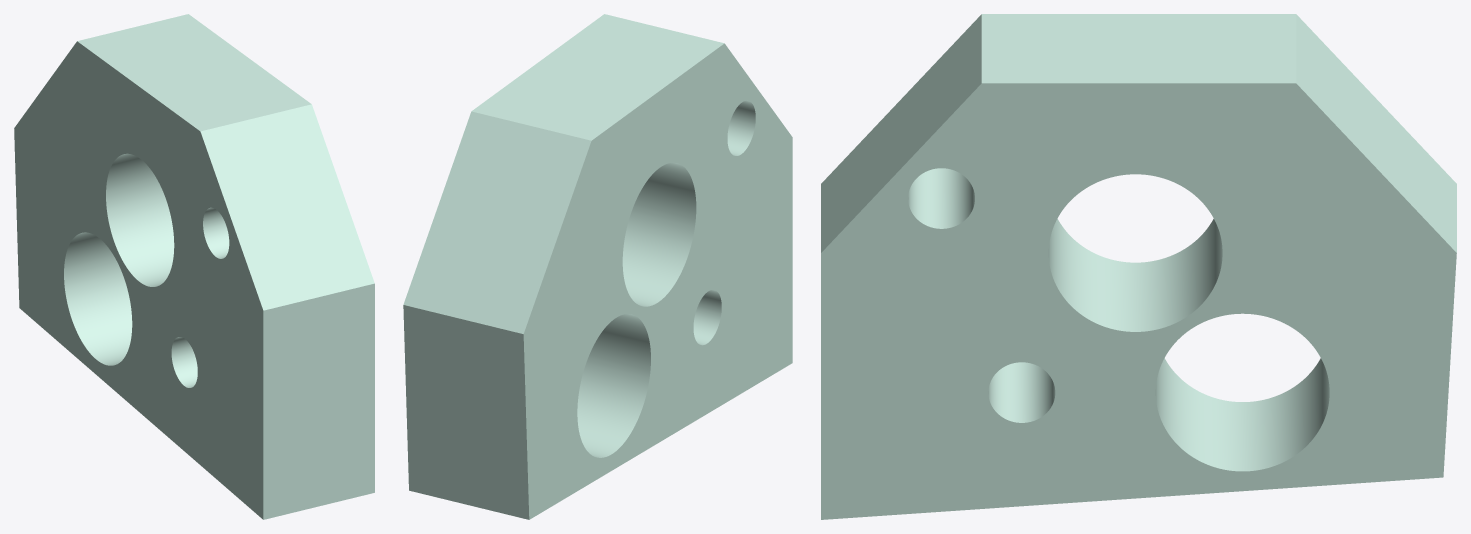
The picture shows the model from 3 angles, left to right: view 1: azimuth 30°, elevation 25°; view 2: azimuth 150°, elevation 25°; view 3: azimuth 270°, elevation 25°; orthographic projection. The views are drawn at different scales.
Visible parts, largest first — view 1: Renderer Node; view 2: Renderer Node; view 3: Renderer Node.
Boxes of the visible parts, left/top/right/bottom form: Renderer Node: left=14, top=14, right=374, bottom=519; Renderer Node: left=403, top=14, right=792, bottom=519; Renderer Node: left=821, top=14, right=1456, bottom=519.
Size of the model in its own units: 0.1875 by 0.5507 by 0.7266.
